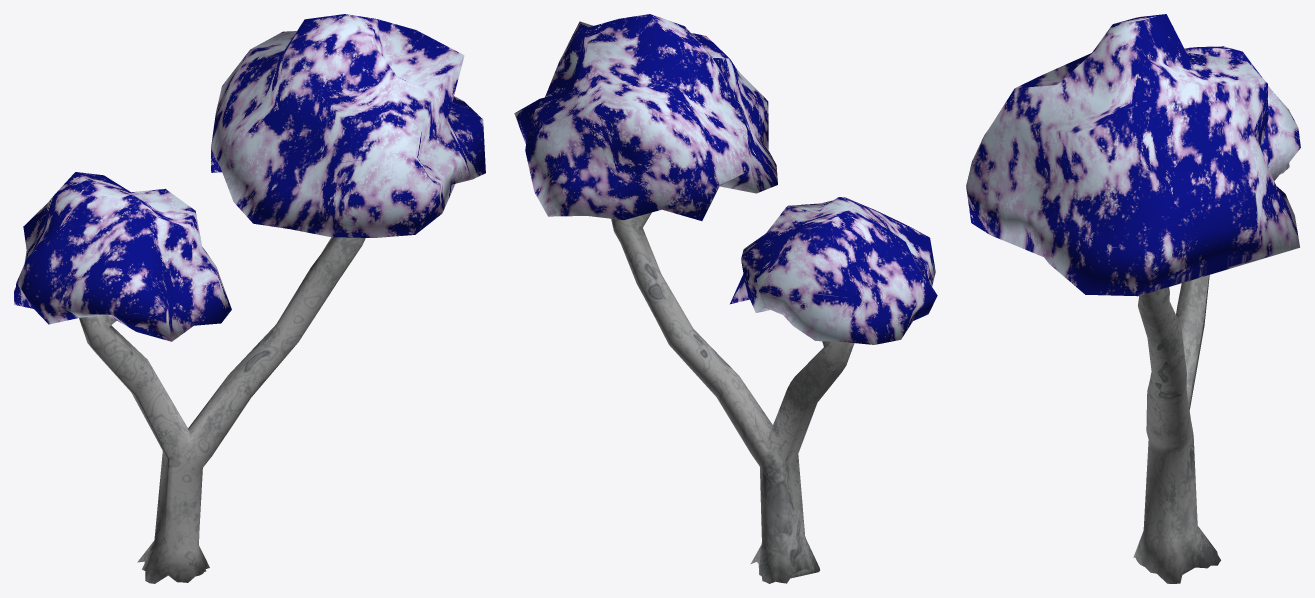
File: Mushroom1.fbx
3 renders of one model, left to right at view 1: azimuth 30°, elevation 25°; view 2: azimuth 150°, elevation 25°; view 3: azimuth 270°, elevation 25°, orthographic. The views are drawn at different scales.
Visible parts, largest first — view 1: Mushroom1; view 2: Mushroom1; view 3: Mushroom1.
Boxes of the visible parts, <box> form: Mushroom1: <box>14,14,485,583</box>; Mushroom1: <box>514,14,937,583</box>; Mushroom1: <box>966,14,1300,583</box>.
Bounding box in the file's own units: 1125 × 1303 × 625.
